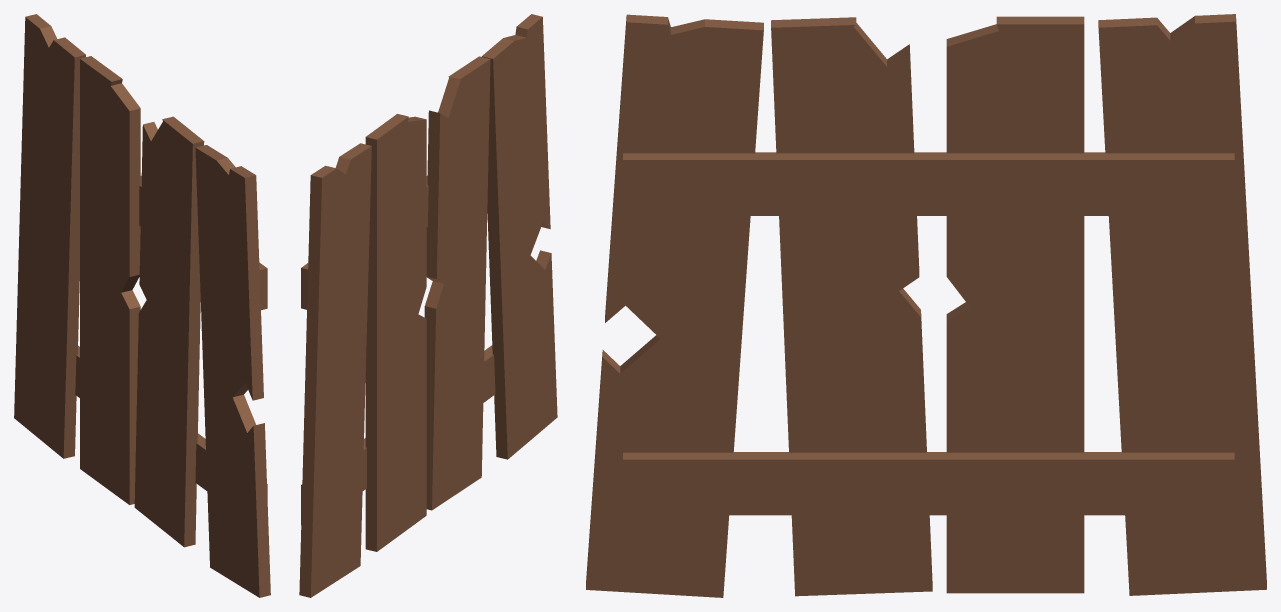
File: fence_2.fbx
3 views of the same model, side by side, from view 1: azimuth 30°, elevation 25°; view 2: azimuth 150°, elevation 25°; view 3: azimuth 270°, elevation 25° (orthographic). The views are drawn at different scales.
Parts seen in each view (by area): view 1: fence_2; view 2: fence_2; view 3: fence_2.
Boxes of the visible parts, x1,y1,x2,y2 form: fence_2: (14,14,270,597); fence_2: (299,14,557,597); fence_2: (586,14,1266,597).
Size of the model in its own units: 0.0487 by 0.9096 by 0.9741.
